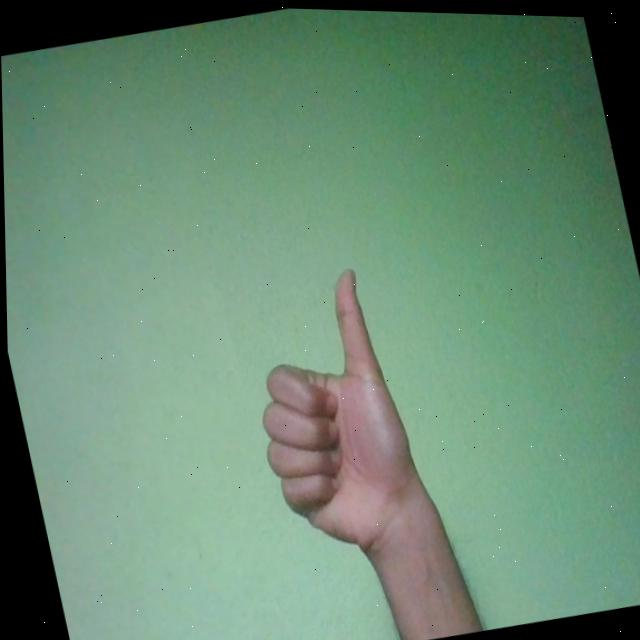Good Job: (227, 259, 432, 571)
